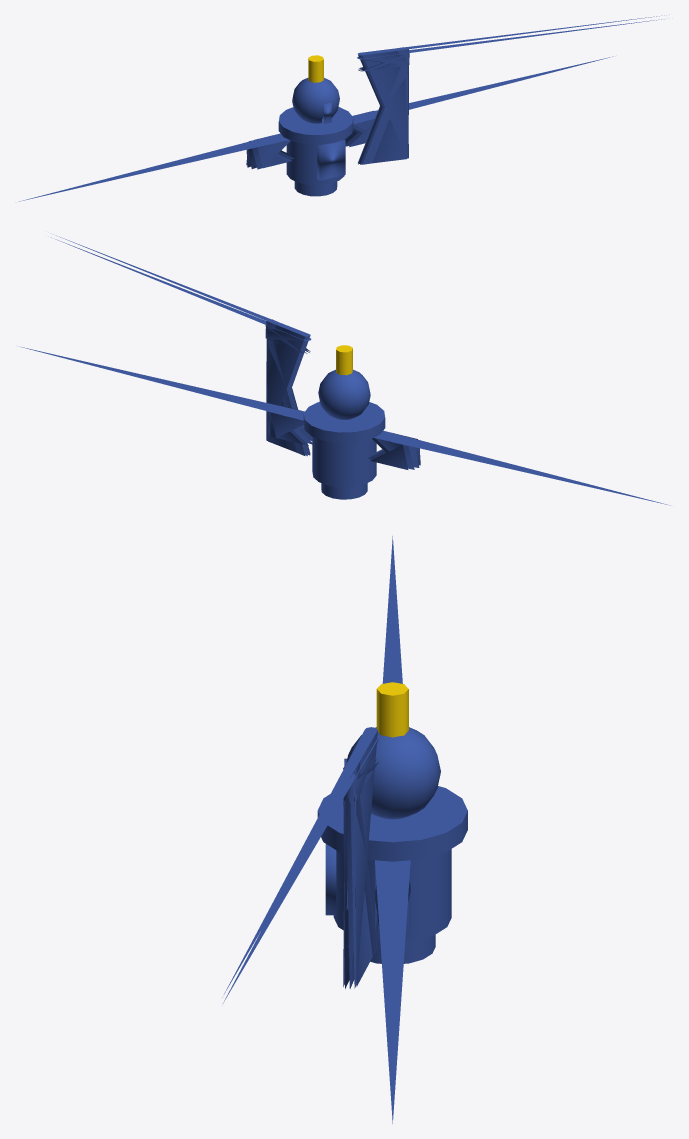
File: french_knights.obj
The picture shows the model from 3 angles, top to bottom: view 1: azimuth 30°, elevation 25°; view 2: azimuth 150°, elevation 25°; view 3: azimuth 270°, elevation 25°; orthographic projection. The views are drawn at different scales.
Parts seen in each view (by area): view 1: french_knight_blue; view 2: french_knight_blue; view 3: french_knight_blue.
Part boxes in pixels (<box>): french_knight_blue: <box>19,14,669,201</box>; french_knight_blue: <box>20,235,670,505</box>; french_knight_blue: <box>222,536,467,1123</box>.
Bounding box in the file's own units: 5.32 × 1.06 × 0.92.
